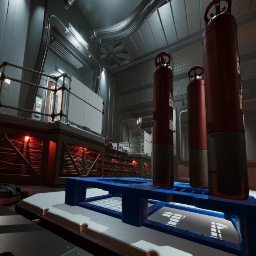0: (151, 120, 153, 182), (122, 147, 130, 153)
FireAlarm ,: (173, 144, 175, 149)
FirstAidBox ,: (104, 137, 113, 148), (110, 146, 115, 149)
NitrogenTank ,: (202, 0, 249, 200), (152, 52, 174, 187), (187, 65, 209, 189), (238, 53, 249, 194), (179, 177, 189, 183)
SafetySwitchPanel ,: (31, 96, 43, 120)
